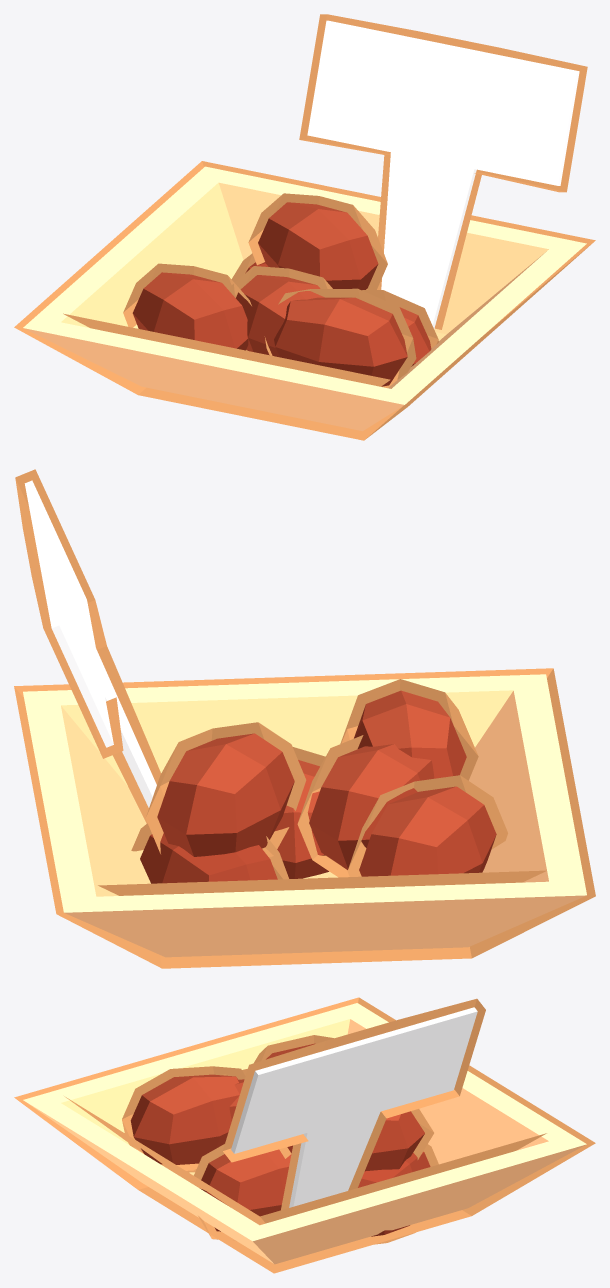
File: brownSeeds-positioned.glb
The picture shows the model from 3 angles, top to bottom: view 1: azimuth 30°, elevation 25°; view 2: azimuth 150°, elevation 25°; view 3: azimuth 270°, elevation 25°; orthographic projection. The views are drawn at different scales.
Parts seen in each view (by area): view 1: brownSeeds, brownSeeds.001; view 2: brownSeeds, brownSeeds.001; view 3: brownSeeds, brownSeeds.001.
Part boxes in pixels (x1=…): brownSeeds: x1=23, y1=20, x2=586, y2=431; brownSeeds.001: x1=14, y1=14, x2=595, y2=440; brownSeeds: x1=23, y1=480, x2=586, y2=957; brownSeeds.001: x1=14, y1=469, x2=595, y2=968; brownSeeds: x1=23, y1=1003, x2=586, y2=1264; brownSeeds.001: x1=14, y1=997, x2=595, y2=1273.
Size of the model in its own units: 0.5769 by 0.299 by 0.5769.
2 materials, 2 textured.
